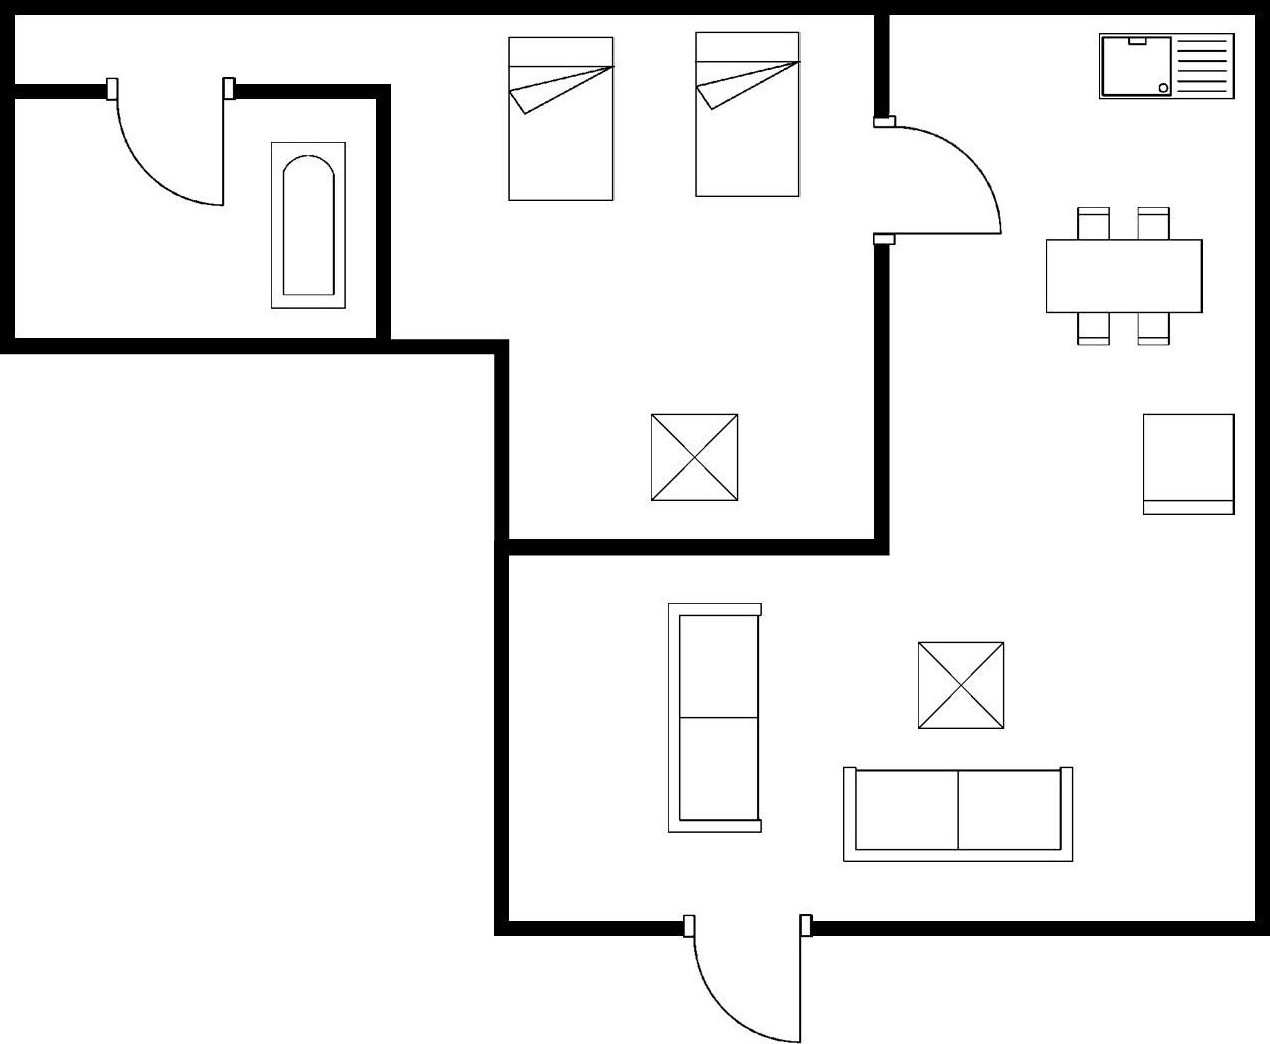bed: (501, 32, 620, 208), (691, 27, 807, 205)
coffee_table: (645, 408, 743, 508), (911, 636, 1009, 735)
dining_table: (1041, 203, 1212, 353)
large_sofa: (835, 761, 1082, 868), (661, 598, 769, 839)
sink: (1094, 27, 1241, 104)
small_sofa: (1135, 410, 1243, 519)
tub: (263, 137, 351, 314)
